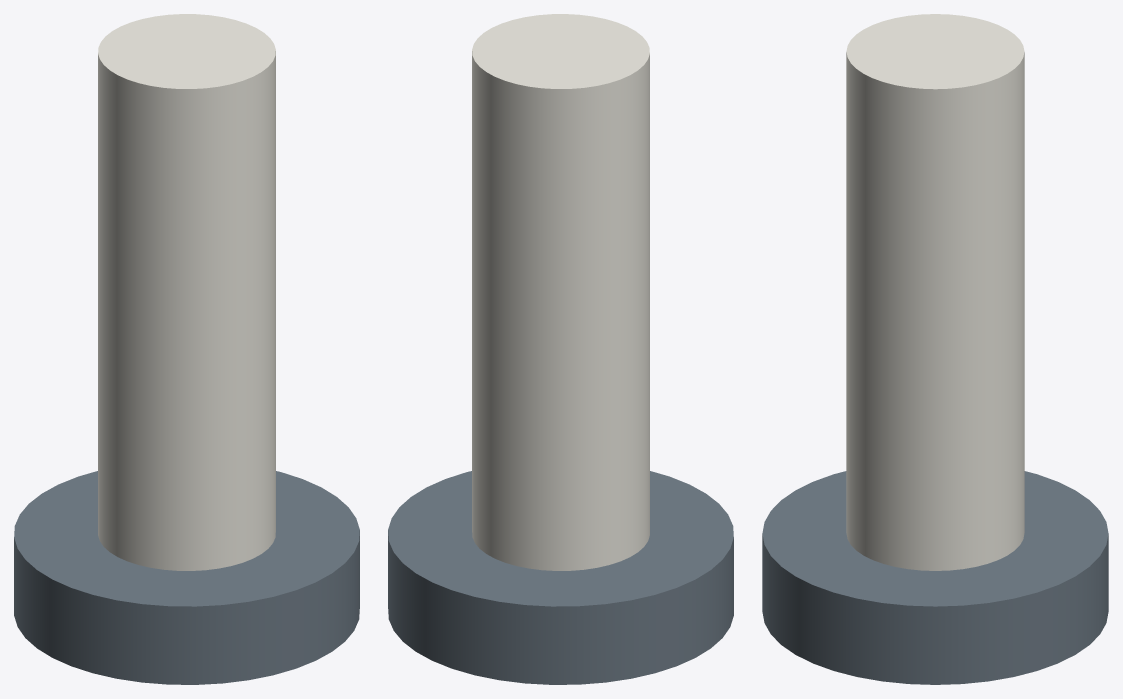
Rendered from curiosity_body.power_comms.low_gain.glb.
3 views of the same model, side by side, from view 1: azimuth 30°, elevation 25°; view 2: azimuth 150°, elevation 25°; view 3: azimuth 270°, elevation 25° (orthographic).
Parts seen in each view (by area): view 1: curiosity_body.power_comms.low_gain.mesh_Warm_white_enamel, curiosity_body.power_comms.low_gain.mesh_Machined_steel; view 2: curiosity_body.power_comms.low_gain.mesh_Warm_white_enamel, curiosity_body.power_comms.low_gain.mesh_Machined_steel; view 3: curiosity_body.power_comms.low_gain.mesh_Warm_white_enamel, curiosity_body.power_comms.low_gain.mesh_Machined_steel.
Part boxes in pixels (box(x1,y1,x2,y2)): curiosity_body.power_comms.low_gain.mesh_Warm_white_enamel: box(98, 14, 275, 570); curiosity_body.power_comms.low_gain.mesh_Machined_steel: box(14, 471, 359, 684); curiosity_body.power_comms.low_gain.mesh_Warm_white_enamel: box(472, 14, 649, 570); curiosity_body.power_comms.low_gain.mesh_Machined_steel: box(388, 471, 733, 684); curiosity_body.power_comms.low_gain.mesh_Warm_white_enamel: box(846, 14, 1024, 570); curiosity_body.power_comms.low_gain.mesh_Machined_steel: box(762, 471, 1108, 684).
Size of the model in its own units: 0.14 by 0.25 by 0.14.
